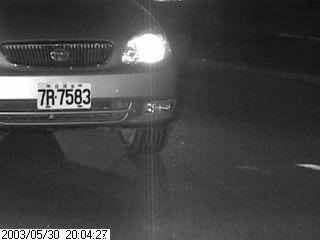plate: (36, 80, 92, 113)
